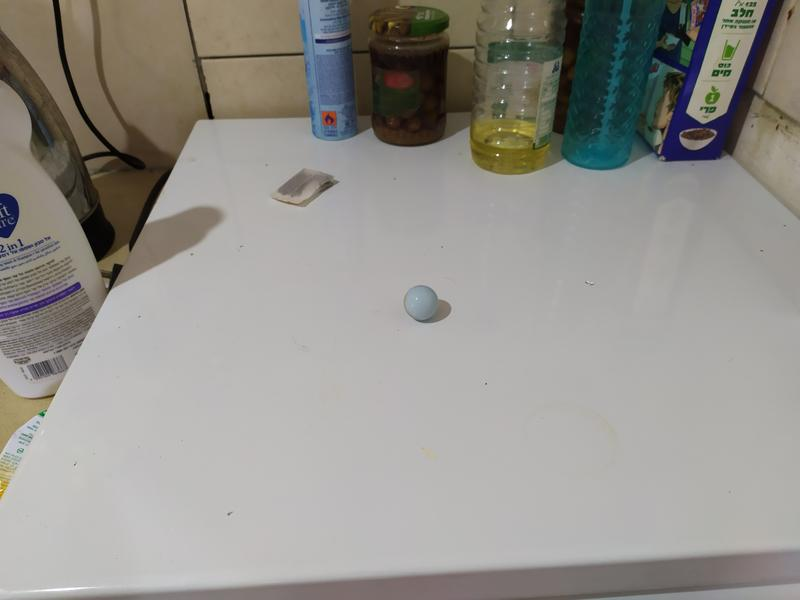Warning: (401, 283, 441, 323)
